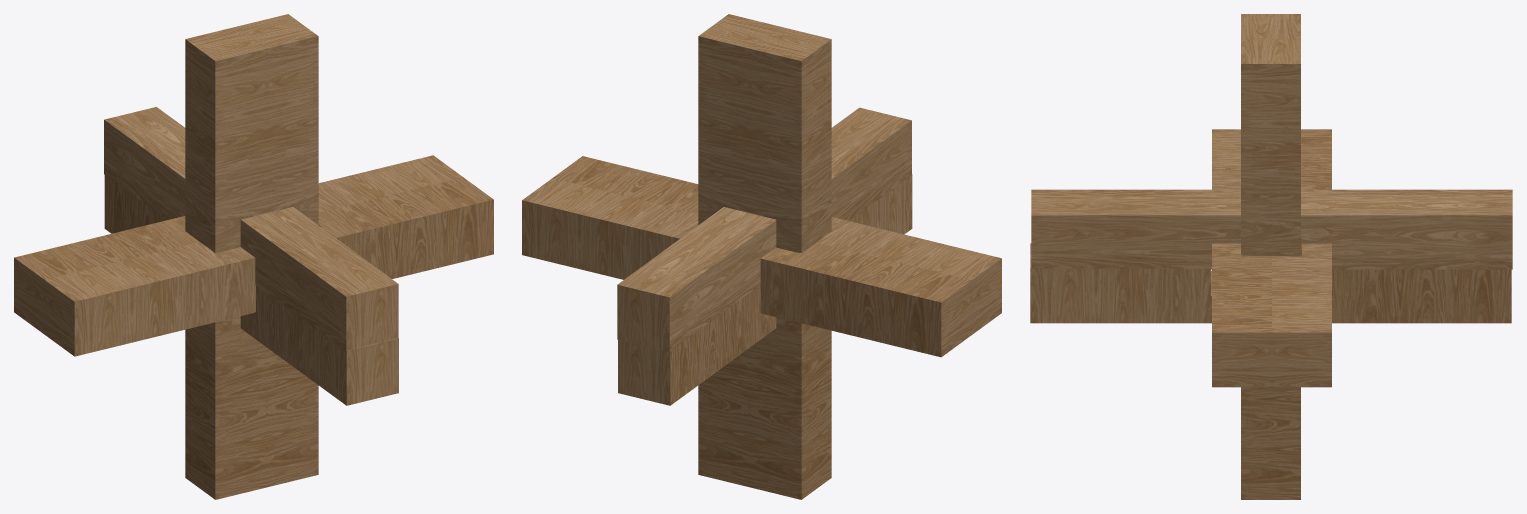
Rendered from luban-lock-ar.glb.
3 renders of one model, left to right at view 1: azimuth 30°, elevation 25°; view 2: azimuth 150°, elevation 25°; view 3: azimuth 270°, elevation 25°, orthographic.
Parts seen in each view (by area): view 1: cube_15, cube_26, cube_1, cube_4, cube_19, cube_20, cube_16, cube_23, cube_24, cube_14, cube_18, cube_12 (+6 smaller); view 2: cube_15, cube_26, cube_12, cube_7, cube_19, cube_20, cube_16, cube_23, cube_14, cube_22, cube_1, cube_18 (+6 smaller); view 3: cube_26, cube_19, cube_23, cube_24, cube_22, cube_7, cube_4, cube_0, cube_10, cube_12, cube_1, cube_16 (+2 smaller).
Boxes of the visible parts, bbox=[...] form: cube_15: bbox=[185, 32, 241, 499]; cube_26: bbox=[104, 107, 398, 351]; cube_1: bbox=[59, 247, 255, 356]; cube_4: bbox=[321, 188, 493, 278]; cube_19: bbox=[262, 14, 318, 480]; cube_20: bbox=[237, 20, 292, 213]; cube_16: bbox=[212, 26, 267, 219]; cube_23: bbox=[104, 201, 398, 405]; cube_24: bbox=[256, 286, 398, 378]; cube_14: bbox=[241, 329, 267, 493]; cube_18: bbox=[266, 347, 292, 487]; cube_12: bbox=[14, 216, 185, 322]; cube_15: bbox=[775, 32, 831, 499]; cube_26: bbox=[617, 107, 911, 352]; cube_12: bbox=[760, 247, 956, 357]; cube_7: bbox=[522, 189, 694, 279]; cube_19: bbox=[698, 14, 754, 480]; cube_20: bbox=[724, 20, 778, 213]; cube_16: bbox=[749, 26, 804, 219]; cube_23: bbox=[618, 201, 912, 405]; cube_14: bbox=[749, 329, 775, 493]; cube_22: bbox=[618, 285, 760, 378]; cube_1: bbox=[831, 217, 1001, 323]; cube_18: bbox=[724, 347, 750, 486]; cube_26: bbox=[1031, 189, 1512, 269]; cube_19: bbox=[1241, 51, 1300, 499]; cube_23: bbox=[1030, 270, 1511, 323]; cube_24: bbox=[1030, 243, 1210, 295]; cube_22: bbox=[1332, 269, 1511, 295]; cube_7: bbox=[1302, 243, 1331, 387]; cube_4: bbox=[1212, 243, 1241, 387]; cube_0: bbox=[1242, 256, 1271, 387]; cube_10: bbox=[1272, 256, 1301, 387]; cube_12: bbox=[1302, 129, 1331, 189]; cube_1: bbox=[1212, 129, 1240, 189]; cube_16: bbox=[1241, 26, 1300, 39].
Bounding box in the file's own units: 0.0748 × 0.0748 × 0.075.
Materials: 1 (1 with a texture image).
